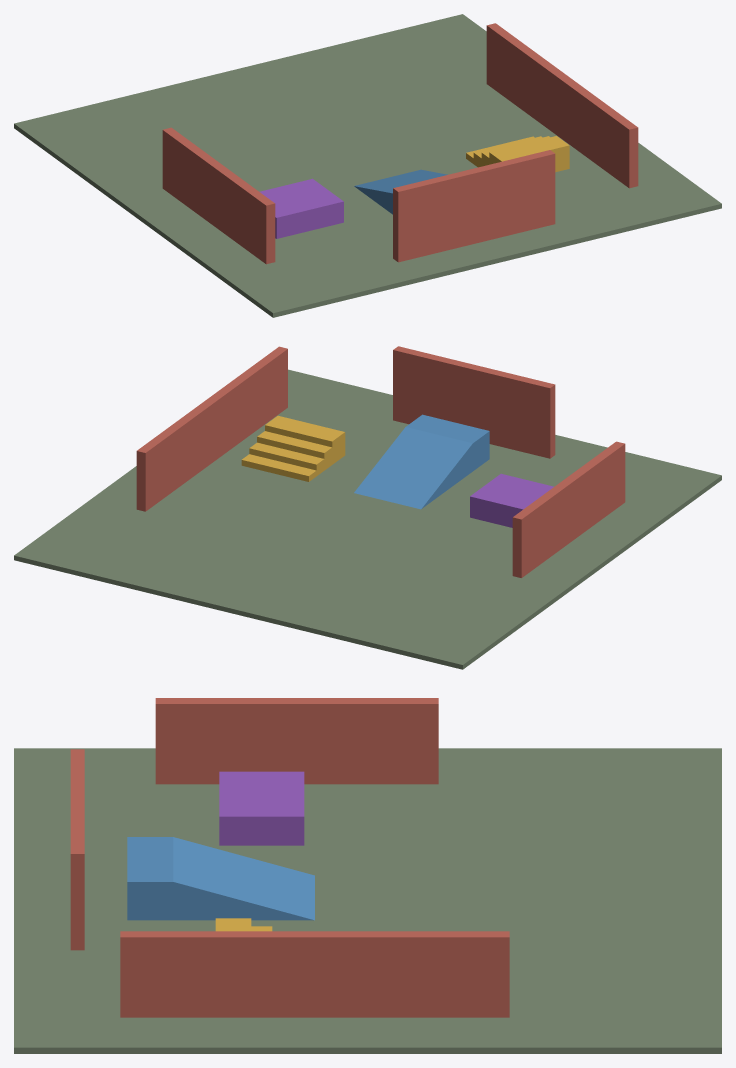
Rendered from BlenderLevel.glb.
3 views of the same model, one above another, from view 1: azimuth 30°, elevation 25°; view 2: azimuth 150°, elevation 25°; view 3: azimuth 270°, elevation 25° (orthographic). The views are drawn at different scales.
Visible parts, largest first — view 1: Floor, Wall_Front, Wall_A, Wall_B, Platform, Stair_4, Ramp; view 2: Floor, Wall_Front, Wall_A, Ramp, Wall_B, Platform, Stair_4, Stair_3, Stair_2, Stair_1; view 3: Floor, Wall_A, Wall_B, Ramp, Platform, Wall_Front.
Part boxes in pixels (x1,y1,x2,y2): Floor: (14,14,721,317); Wall_Front: (393,150,555,262); Wall_A: (486,23,638,188); Wall_B: (162,127,275,264); Platform: (259,178,343,238); Stair_4: (489,136,569,172); Ramp: (354,169,447,214); Floor: (14,369,721,669); Wall_Front: (393,346,555,458); Wall_A: (136,346,287,511); Ramp: (354,414,489,509); Wall_B: (512,441,625,577); Platform: (470,473,553,527); Stair_4: (265,415,345,464); Stair_3: (257,431,332,470); Stair_2: (249,442,324,475); Stair_1: (241,454,316,481); Floor: (14,748,721,1053); Wall_A: (120,931,509,1017); Wall_B: (155,698,438,784); Ramp: (127,837,314,920); Platform: (219,771,304,845); Wall_Front: (70,749,84,950).
Bounding box in the file's own units: 20 × 3.2 × 20.
